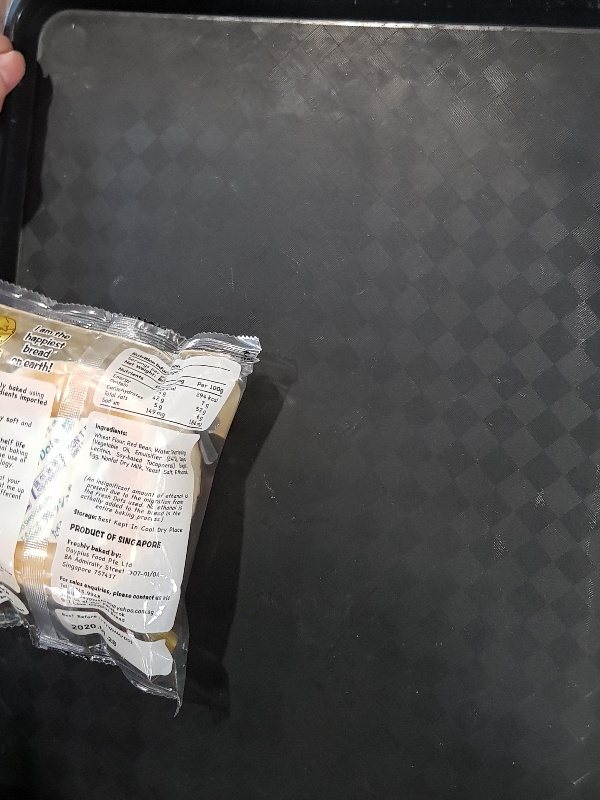Dayplus Banana: (1, 275, 266, 718)
